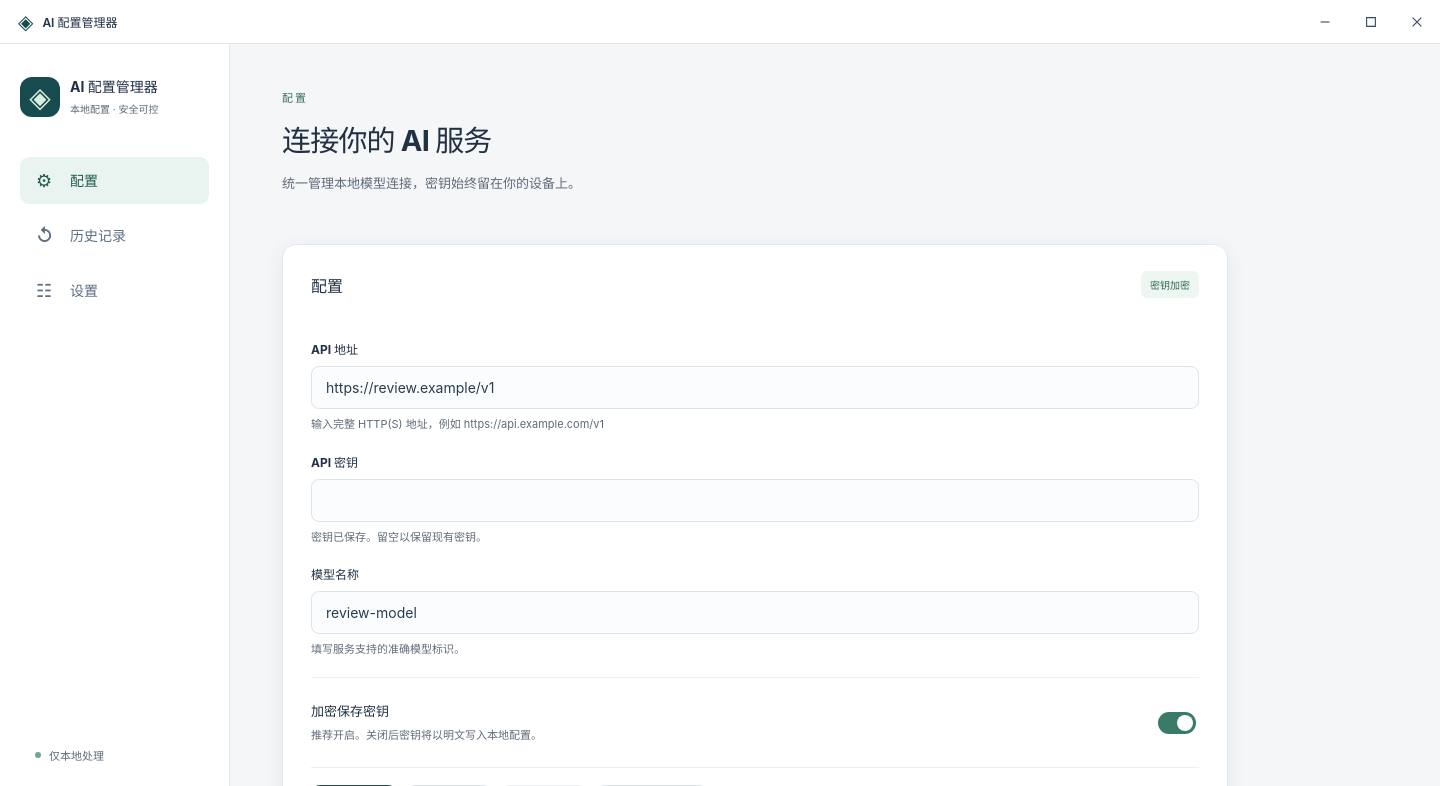
Scenario: Settings page inventory › disables silent/tray controls and hides the tray action when the native tray is unavailable
Expected: the field showing "https://review.example/v1" is shown, [311,366,1199,409]
Click the button "☷ 设置": (114, 290) [20,267,209,314]
(page scrolled)
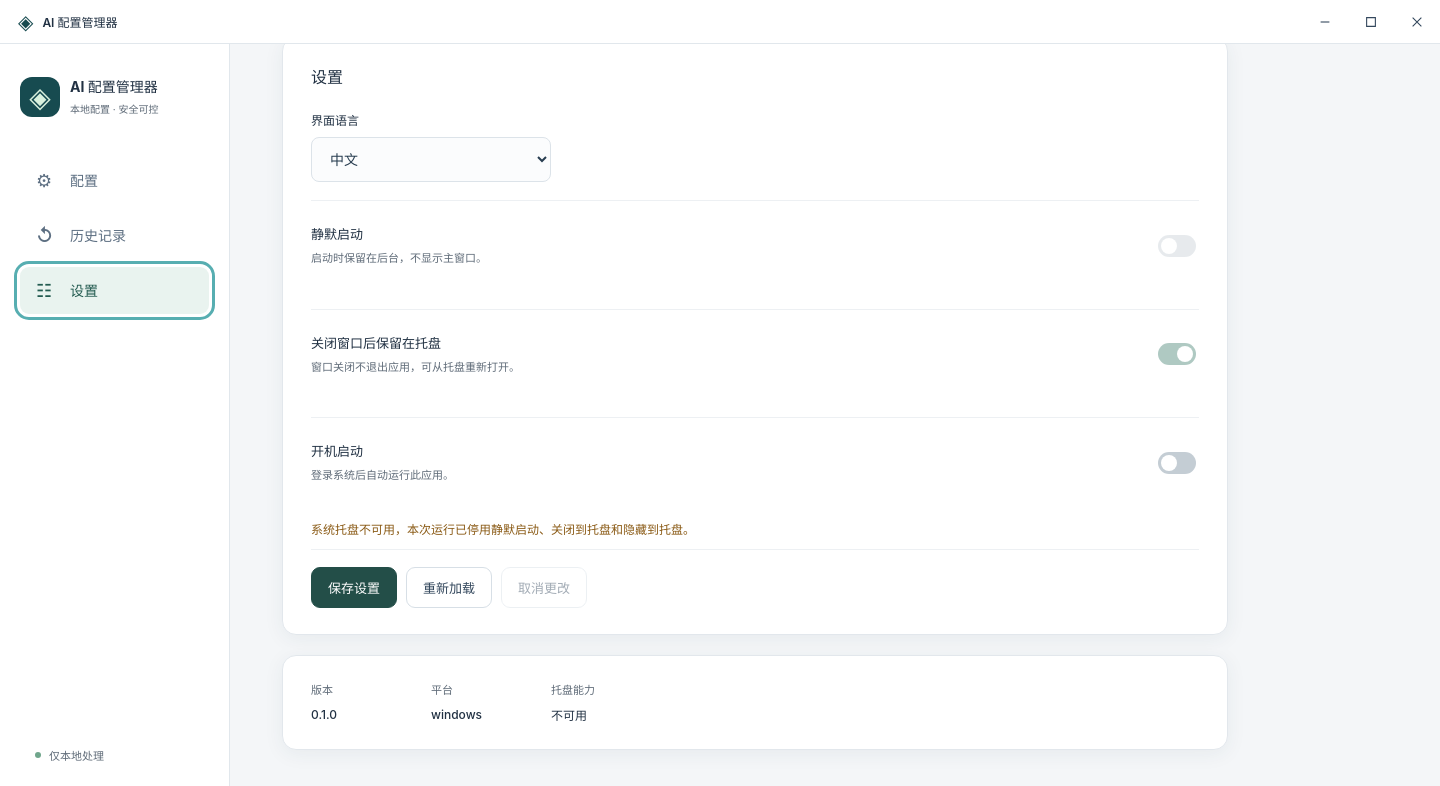
Result: the dropdown labelled "界面语言" is shown at [311,137,551,182]
Result: the switch labelled "关闭窗口后保留在托盘 窗口关闭不退出应用，可从托盘重新打开。" is disabled at [1158,344,1196,366]
Result: the message with class "system-warning" reads "系统托盘不可用，本次运行已停用静默启动、关闭到托盘和隐藏到托盘。" at [311,522,695,537]
